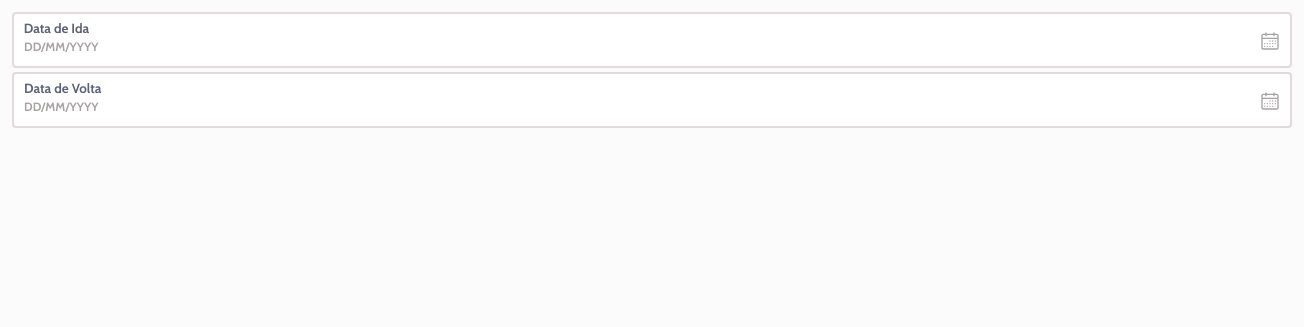
Test case: <DatePicker /> › should show date picker when clicking on date inputs
Focus the field with placeholder "DD/MM/YYYY" next to "Data de Ida" at (652, 40), box 12,12 -> 1292,68
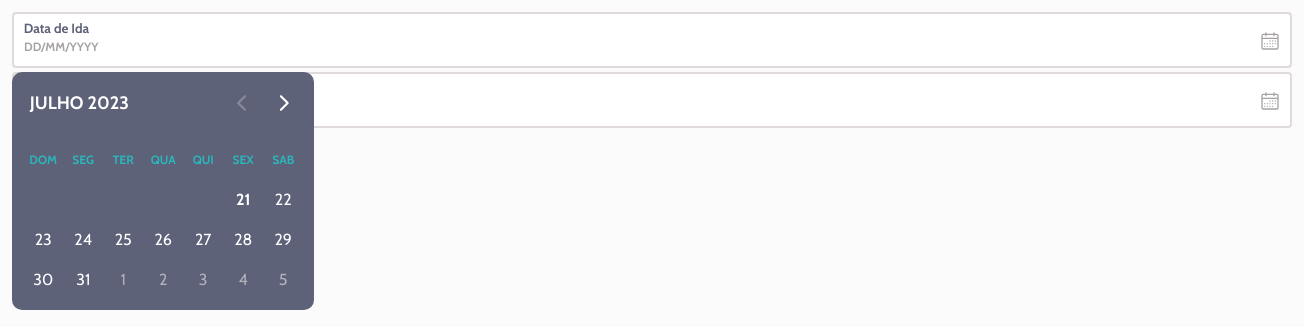
Now the element with test id "daypicker" is shown, box 12,72 -> 314,310
